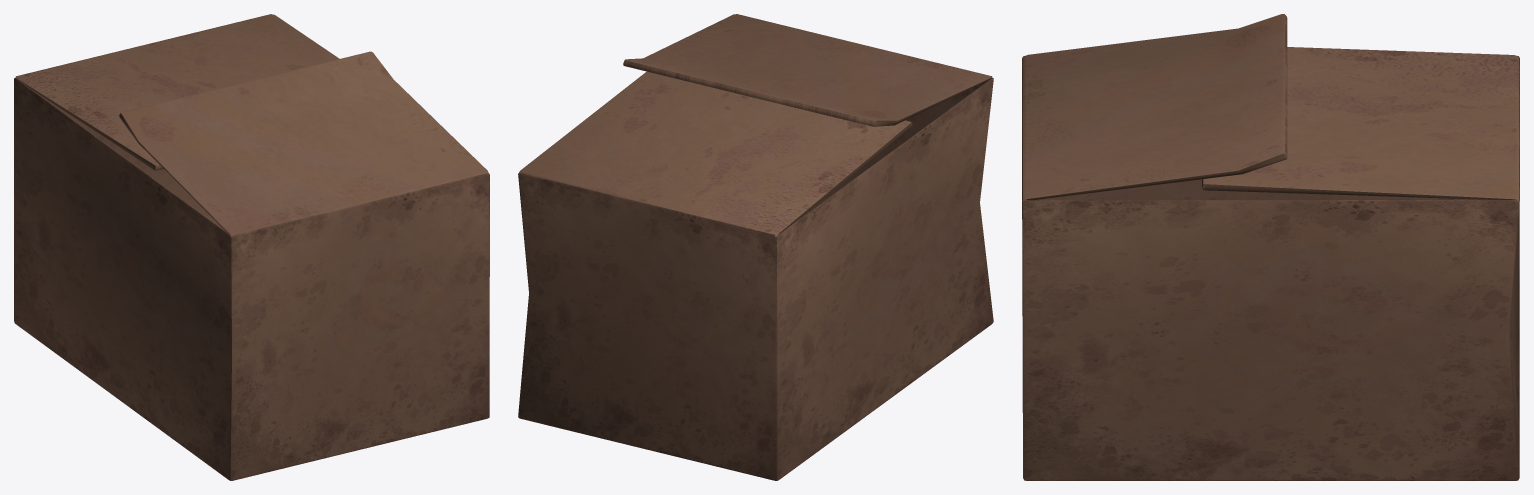
3 renders of one model, left to right at view 1: azimuth 30°, elevation 25°; view 2: azimuth 150°, elevation 25°; view 3: azimuth 270°, elevation 25°, orthographic. The views are drawn at different scales.
Parts seen in each view (by area): view 1: Box004; view 2: Box004; view 3: Box004.
Part boxes in pixels (left/top/right/bottom): Box004: left=14, top=14, right=489, bottom=480; Box004: left=518, top=14, right=993, bottom=480; Box004: left=1022, top=14, right=1519, bottom=480.
Bounding box in the file's own units: 20.11 × 21.04 × 29.15.
